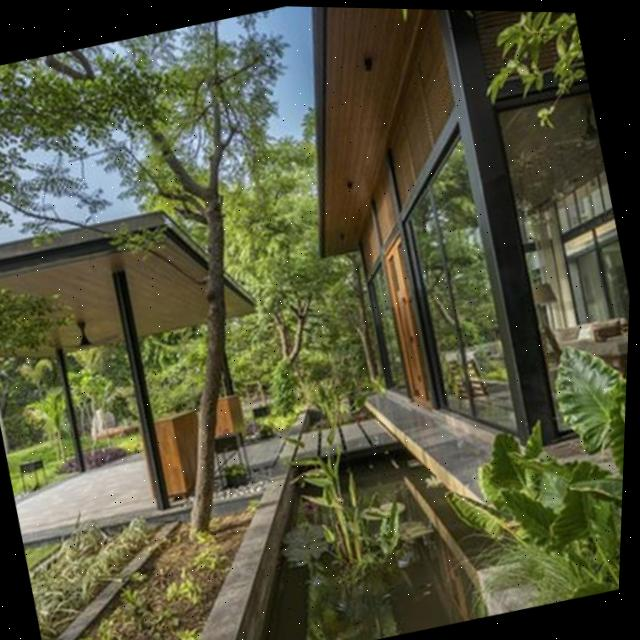building: (254, 6, 640, 493)
